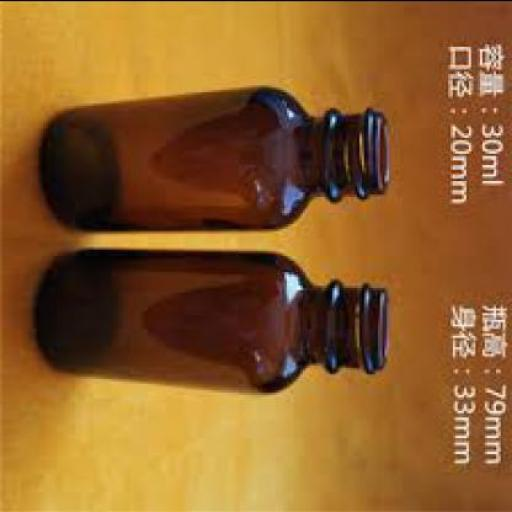glass: (34, 250, 392, 391), (43, 82, 391, 227)
